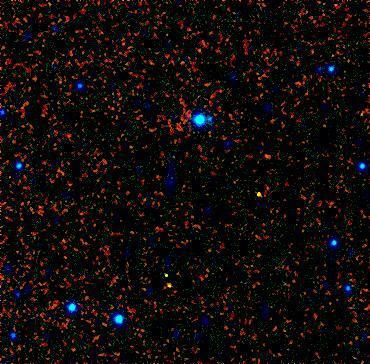star: (249, 139, 279, 169)
